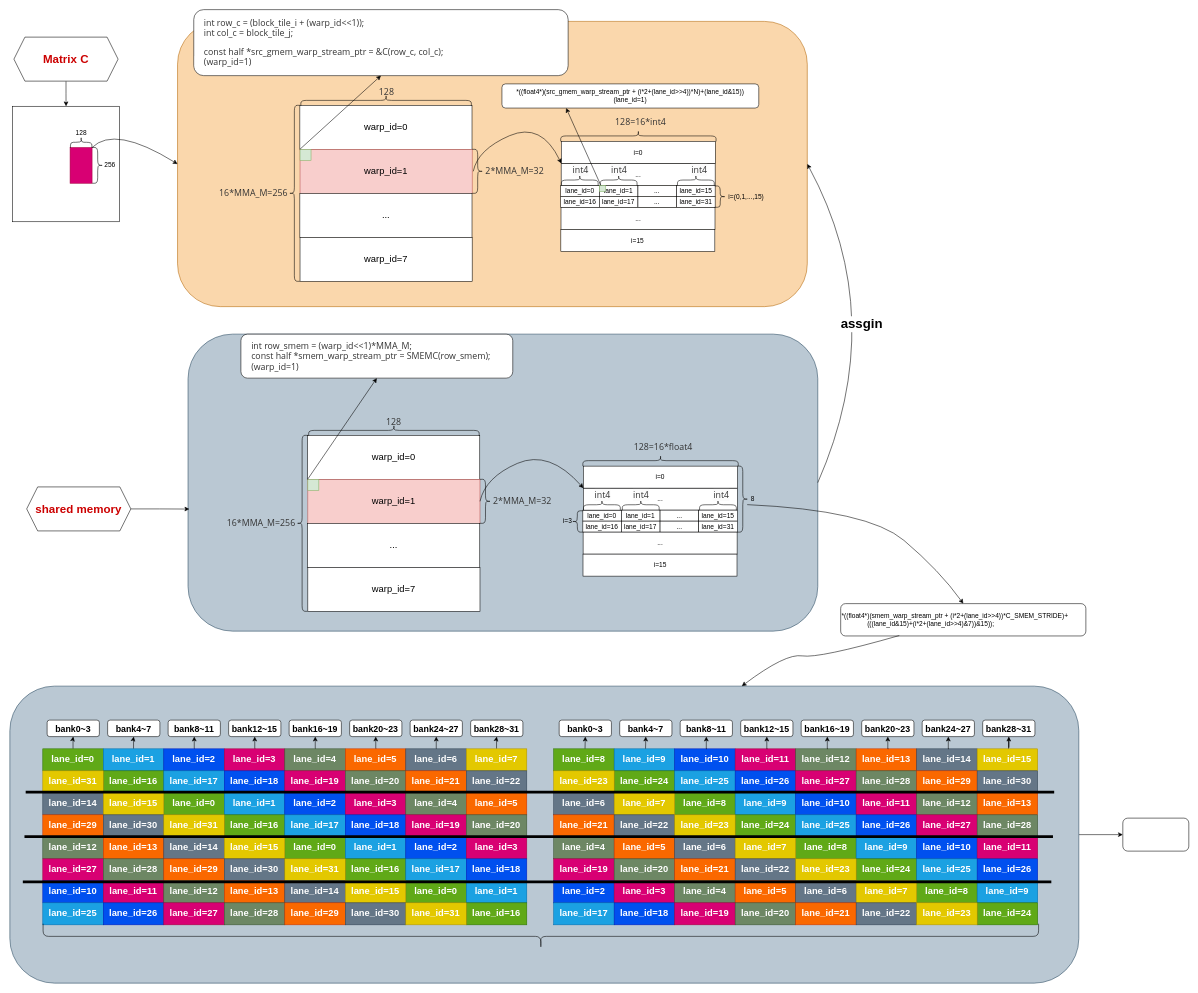
Some shapes in this 1198 by 993 pixel diagram are drawn without their labels. The shapes that lost their labels are listed below. From the top down, each one's centre as x and y in pixels, then its label:
At point 81,165: "block".
At point 1155,834: "first 8 lines".
At point 541,936: "128*half".
